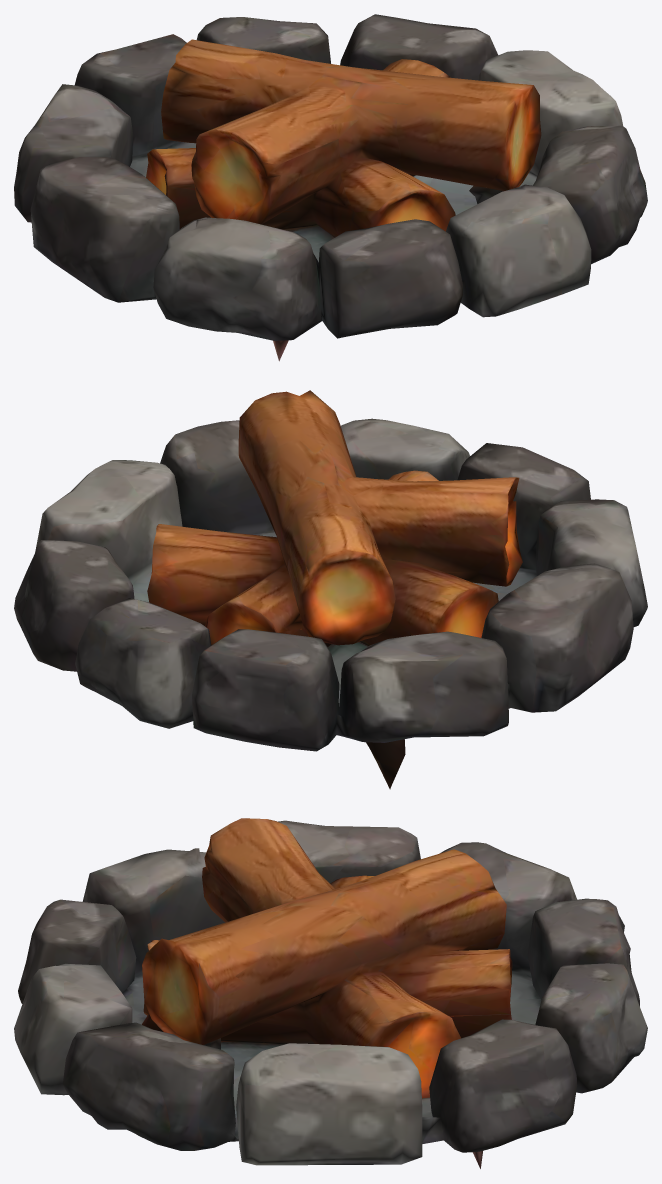
The model's file is fire.glb.
3 renders of one model, top to bottom at view 1: azimuth 30°, elevation 25°; view 2: azimuth 150°, elevation 25°; view 3: azimuth 270°, elevation 25°, orthographic. The views are drawn at different scales.
Visible parts, largest first — view 1: tripo_node_5af1103b-b9da-4a9b-b029-8d27bf84756e; view 2: tripo_node_5af1103b-b9da-4a9b-b029-8d27bf84756e; view 3: tripo_node_5af1103b-b9da-4a9b-b029-8d27bf84756e.
Boxes of the visible parts, x1=… form: tripo_node_5af1103b-b9da-4a9b-b029-8d27bf84756e: x1=14, y1=14, x2=647, y2=361; tripo_node_5af1103b-b9da-4a9b-b029-8d27bf84756e: x1=14, y1=390, x2=647, y2=789; tripo_node_5af1103b-b9da-4a9b-b029-8d27bf84756e: x1=14, y1=818, x2=647, y2=1168.
Size of the model in its own units: 1 by 0.4221 by 1.
Materials: 1 (1 with a texture image).
